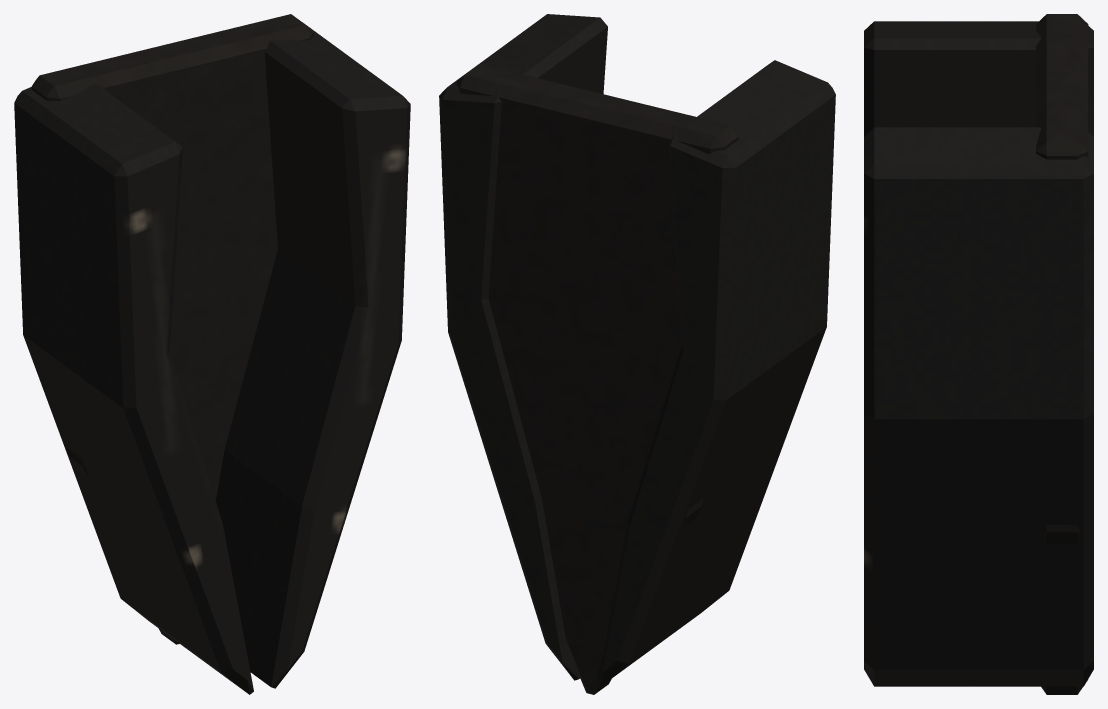
File: core_socket_mesh.obj
The picture shows the model from 3 angles, left to right: view 1: azimuth 30°, elevation 25°; view 2: azimuth 150°, elevation 25°; view 3: azimuth 270°, elevation 25°; orthographic projection. The views are drawn at different scales.
Visible parts, largest first — view 1: core_socket_mesh; view 2: core_socket_mesh; view 3: core_socket_mesh.
Boxes of the visible parts, x1,y1,x2,y2 form: core_socket_mesh: (14,14,410,694); core_socket_mesh: (439,14,835,694); core_socket_mesh: (864,14,1093,694).
Size of the model in its own units: 0.6386 by 1.21 by 0.41.
Materials: 1 (1 with a texture image).
